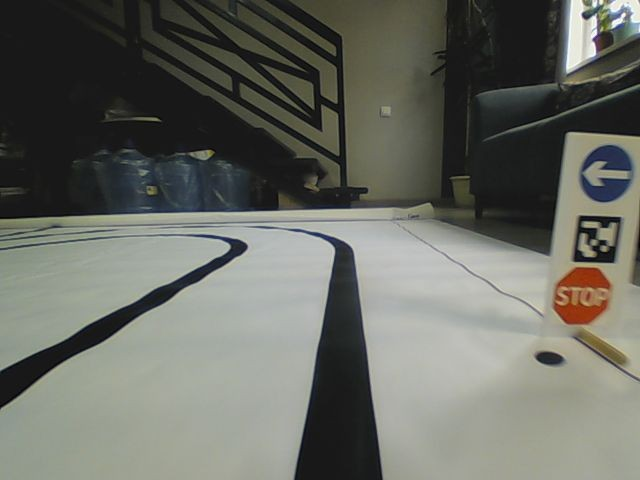Stop: (551, 267, 612, 326)
